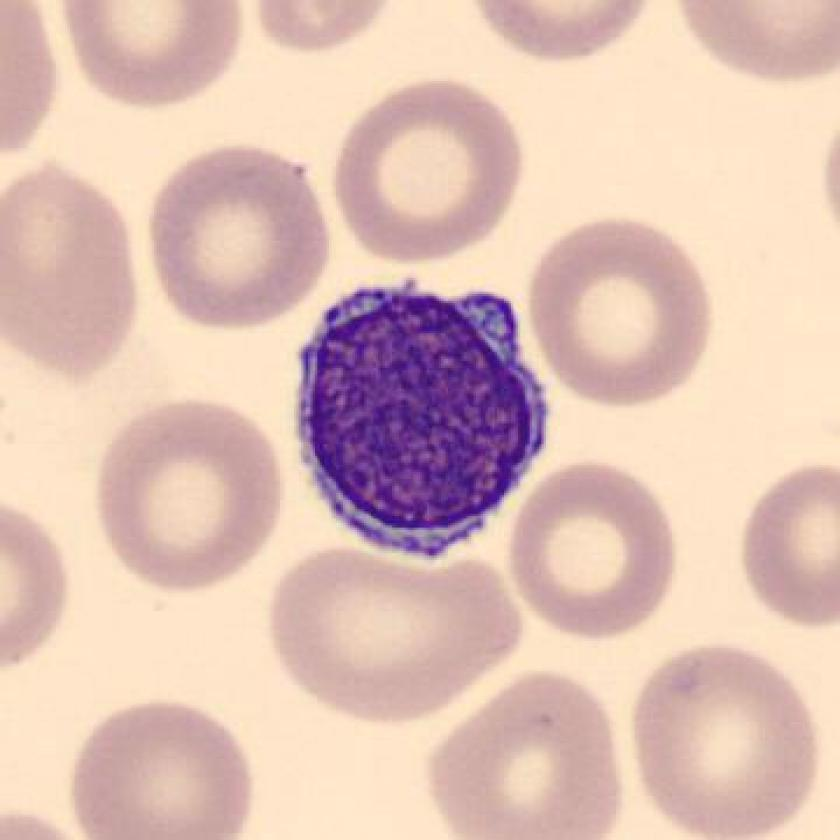lymphocyte: (276, 267, 566, 580)
